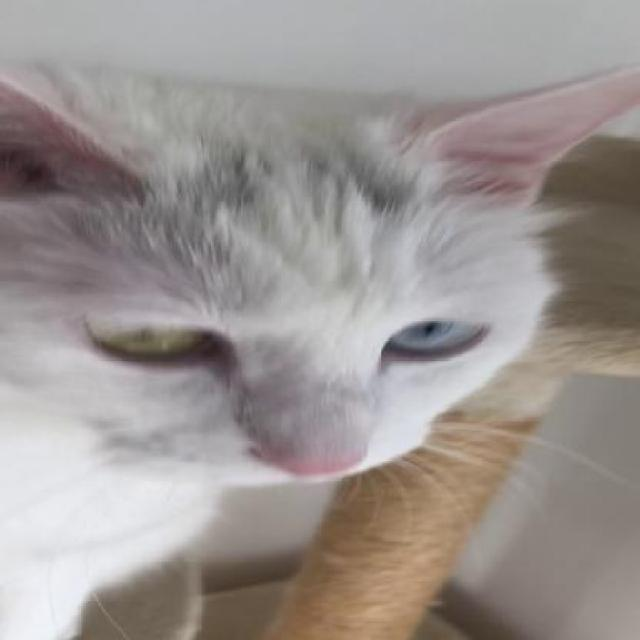cat-face: (1, 55, 639, 487)
